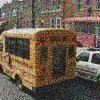buses: (0, 26, 77, 94)
